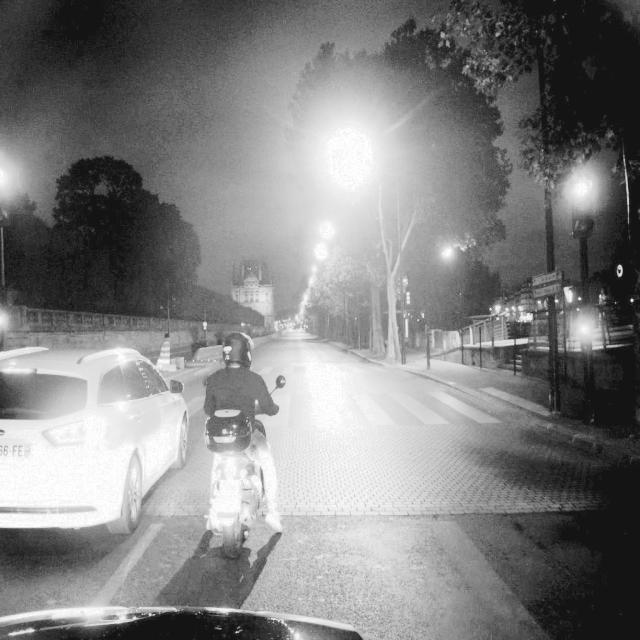Light: (570, 178, 594, 236), (563, 284, 579, 304), (579, 322, 592, 337)
